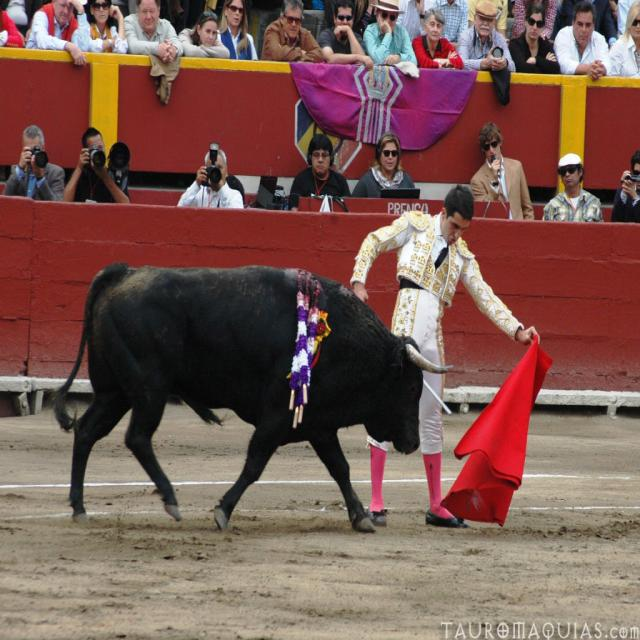Deer: (60, 264, 450, 533)
